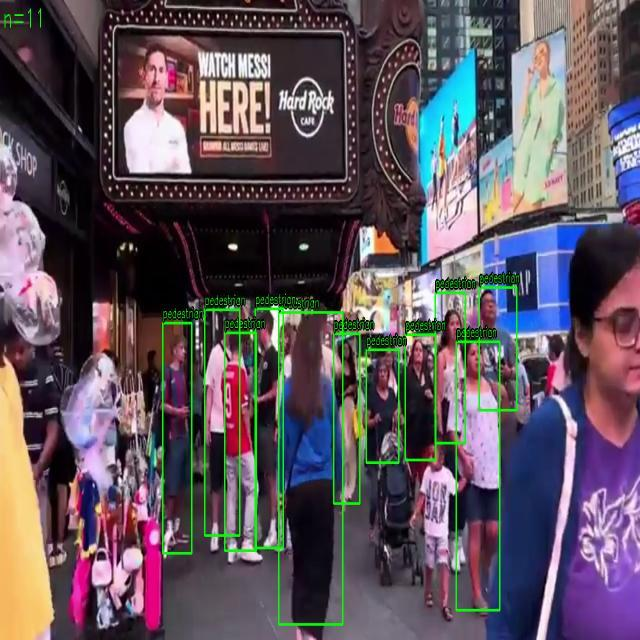with scooter: (278, 312, 344, 625), (456, 341, 500, 611), (204, 309, 240, 536), (254, 308, 284, 548), (224, 333, 256, 551), (162, 322, 192, 554), (434, 292, 466, 443), (479, 288, 517, 410), (334, 333, 361, 504), (405, 334, 436, 460), (366, 349, 399, 463)
